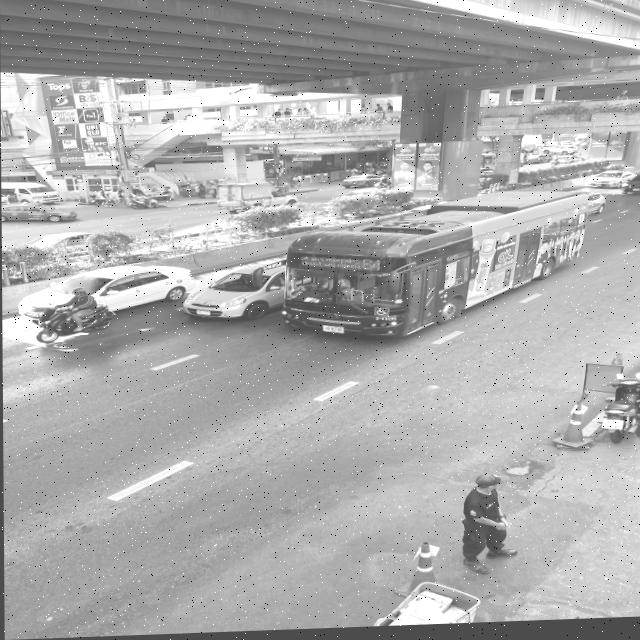Bus Line Number: (360, 260, 386, 275)
Bus Side Number: (373, 318, 399, 325)
Destination Sign: (297, 258, 361, 275)
TSB-Bus: (281, 193, 590, 344)
